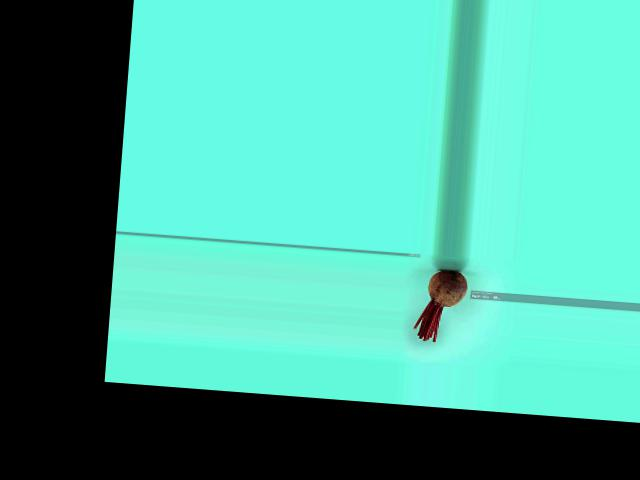beet: (413, 268, 469, 343)
